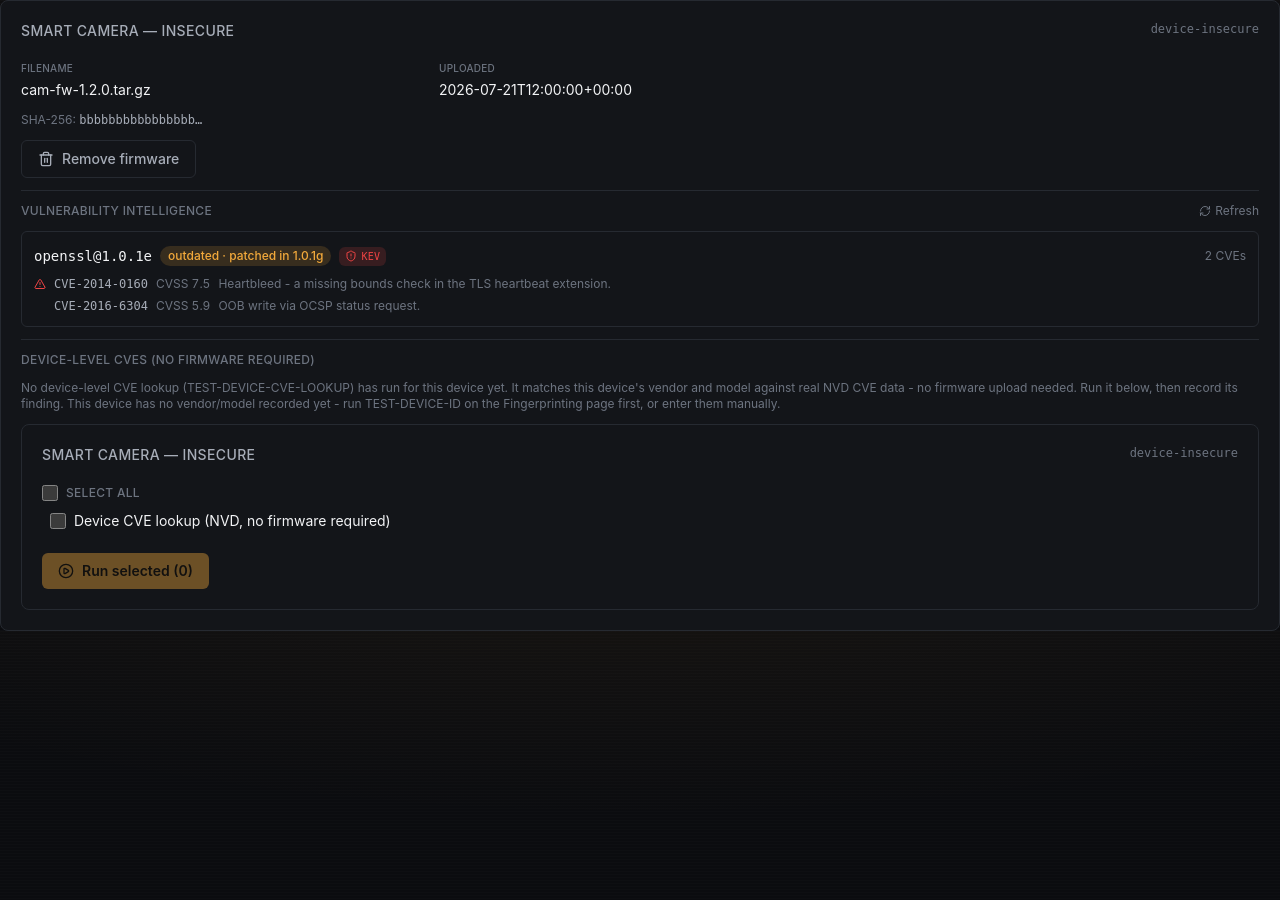
Scenario: DeviceVulnerabilityCard › removes firmware and reverts to the upload control
Click the button "Remove firmware": (109, 159) [21,140,196,178]
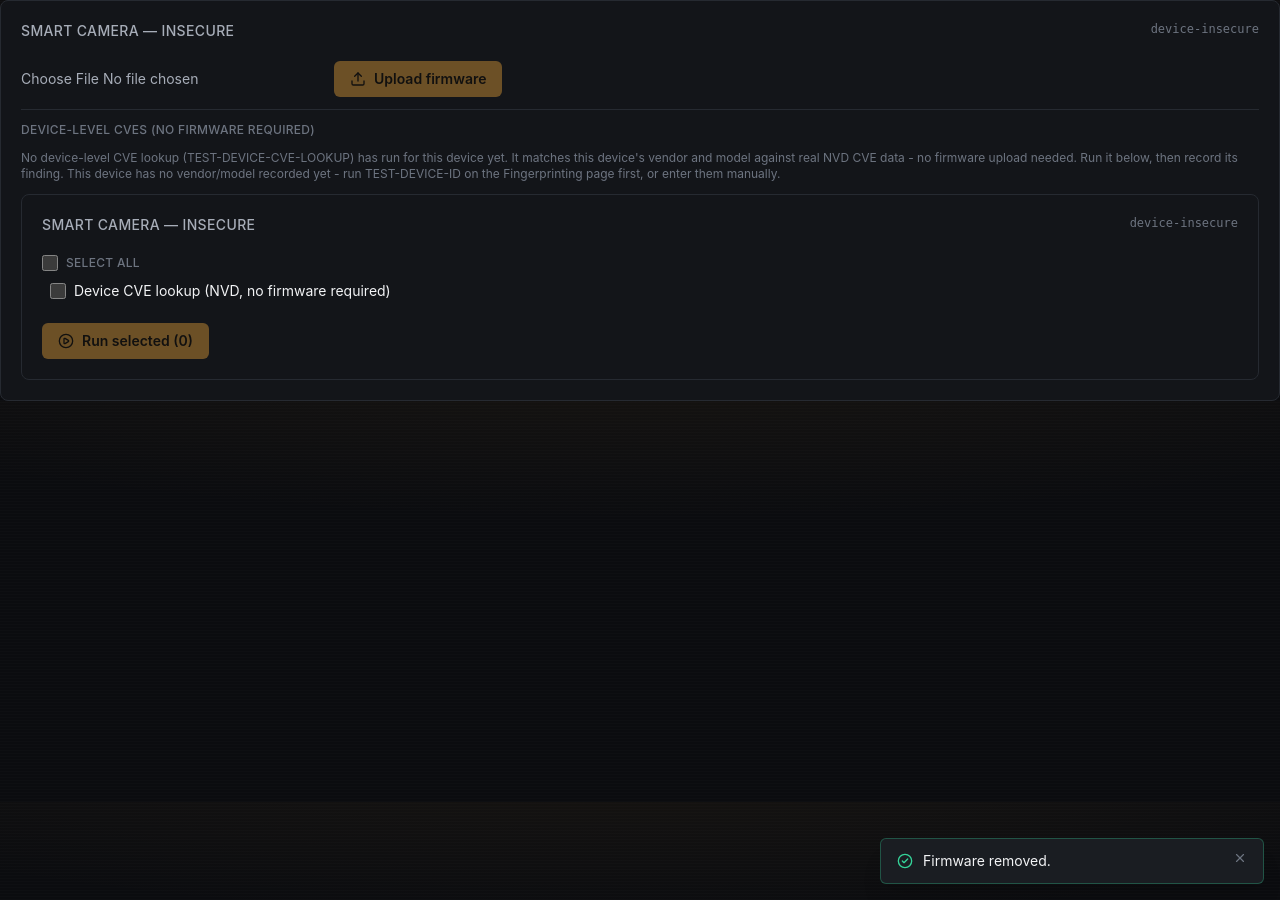
Now the file field named "firmware archive" is shown, box [21,69,322,89]
